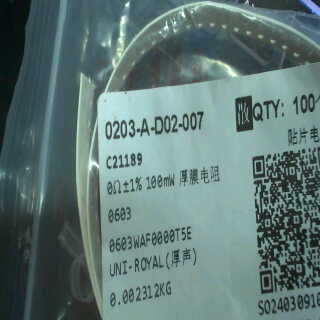0R: (104, 172, 177, 224)
